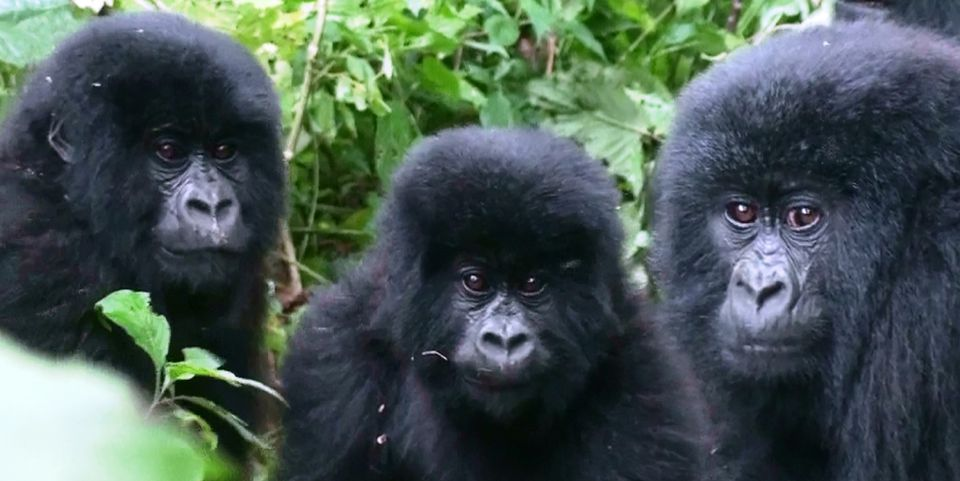Goriila: (299, 124, 693, 474), (7, 27, 326, 426), (634, 72, 960, 414)
